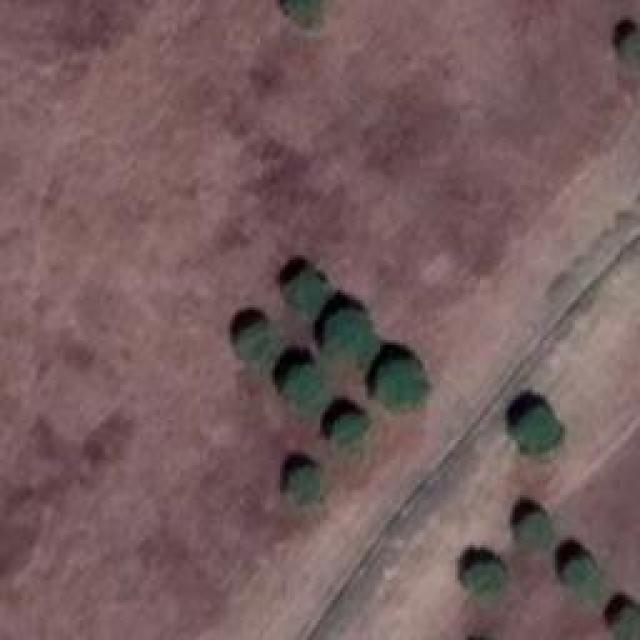Tree: (323, 310, 378, 368), (375, 358, 428, 411), (515, 403, 560, 446), (465, 563, 508, 606), (285, 270, 323, 313), (285, 368, 320, 413), (565, 558, 600, 603), (235, 323, 270, 358), (290, 468, 323, 501), (280, 0, 324, 24), (518, 513, 553, 543), (612, 607, 639, 640), (333, 415, 368, 440), (615, 25, 638, 60)
